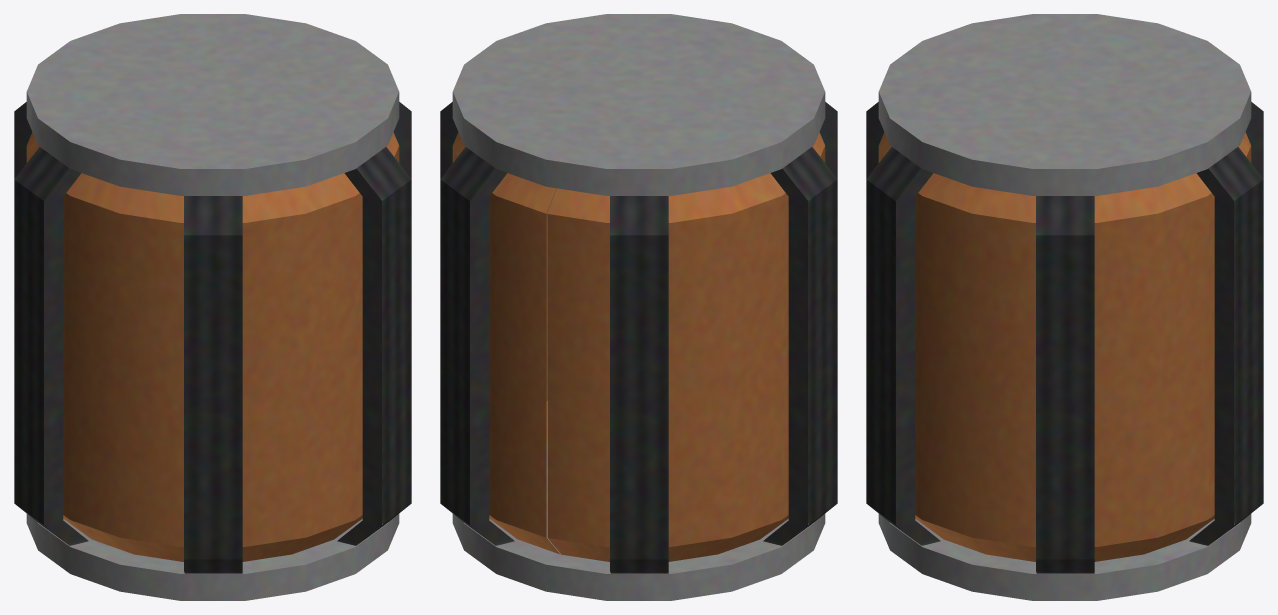
3 renders of one model, left to right at view 1: azimuth 30°, elevation 25°; view 2: azimuth 150°, elevation 25°; view 3: azimuth 270°, elevation 25°, orthographic.
Parts seen in each view (by area): view 1: Container, Base_001, Support_004, Support_005, Support_003, Base, Support_002, Support; view 2: Container, Base_001, Support_002, Support_003, Support_001, Base, Support_004, Support; view 3: Container, Base_001, Support, Support_005, Support_001, Base, Support_004, Support_002.
Boxes of the visible parts, left/top/right/bottom form: Container: left=26, top=132, right=399, bottom=561; Base_001: left=26, top=14, right=399, bottom=195; Support_004: left=184, top=196, right=242, bottom=573; Support_005: left=337, top=147, right=411, bottom=545; Support_003: left=14, top=147, right=88, bottom=545; Base: left=26, top=514, right=399, bottom=600; Support_002: left=14, top=102, right=32, bottom=178; Support: left=393, top=102, right=411, bottom=178; Container: left=452, top=132, right=825, bottom=561; Base_001: left=452, top=14, right=825, bottom=195; Support_002: left=610, top=196, right=668, bottom=573; Support_003: left=763, top=147, right=837, bottom=545; Support_001: left=440, top=147, right=514, bottom=545; Base: left=452, top=443, right=825, bottom=600; Support_004: left=819, top=102, right=837, bottom=178; Support: left=440, top=102, right=458, bottom=178; Container: left=878, top=132, right=1251, bottom=561; Base_001: left=878, top=14, right=1251, bottom=195; Support: left=1036, top=196, right=1094, bottom=573; Support_005: left=866, top=147, right=940, bottom=545; Support_001: left=1189, top=147, right=1263, bottom=545; Base: left=878, top=514, right=1251, bottom=600; Support_004: left=866, top=102, right=884, bottom=178; Support_002: left=1245, top=102, right=1263, bottom=178.
Size of what is drawn, in the model's own units: 0.57 by 0.64 by 0.5336.
2 materials, 2 textured.
